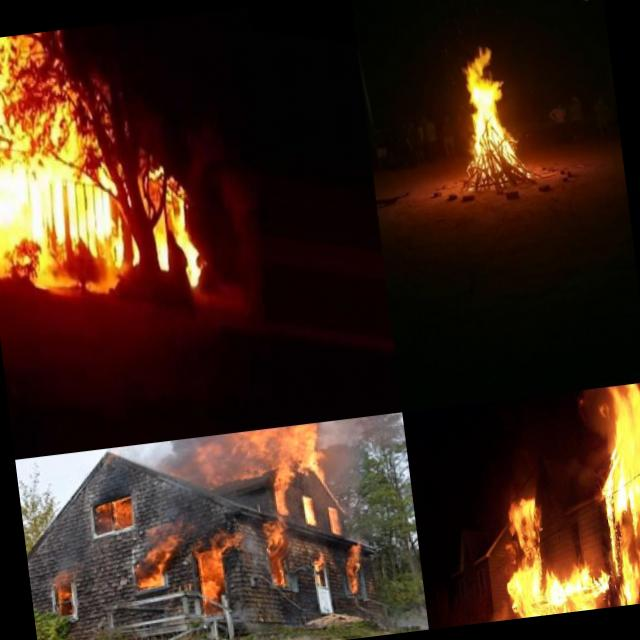fire: (484, 381, 640, 619), (451, 39, 522, 176), (248, 423, 324, 501), (158, 178, 208, 294), (257, 522, 292, 590), (196, 546, 226, 596), (341, 544, 368, 596), (130, 556, 168, 592), (211, 528, 250, 556), (146, 533, 183, 560), (110, 494, 133, 522), (326, 507, 342, 535), (308, 552, 328, 572), (54, 582, 72, 604), (300, 498, 314, 523)
smoke: (318, 413, 400, 498), (162, 431, 255, 492), (49, 556, 82, 582), (486, 596, 512, 622)
